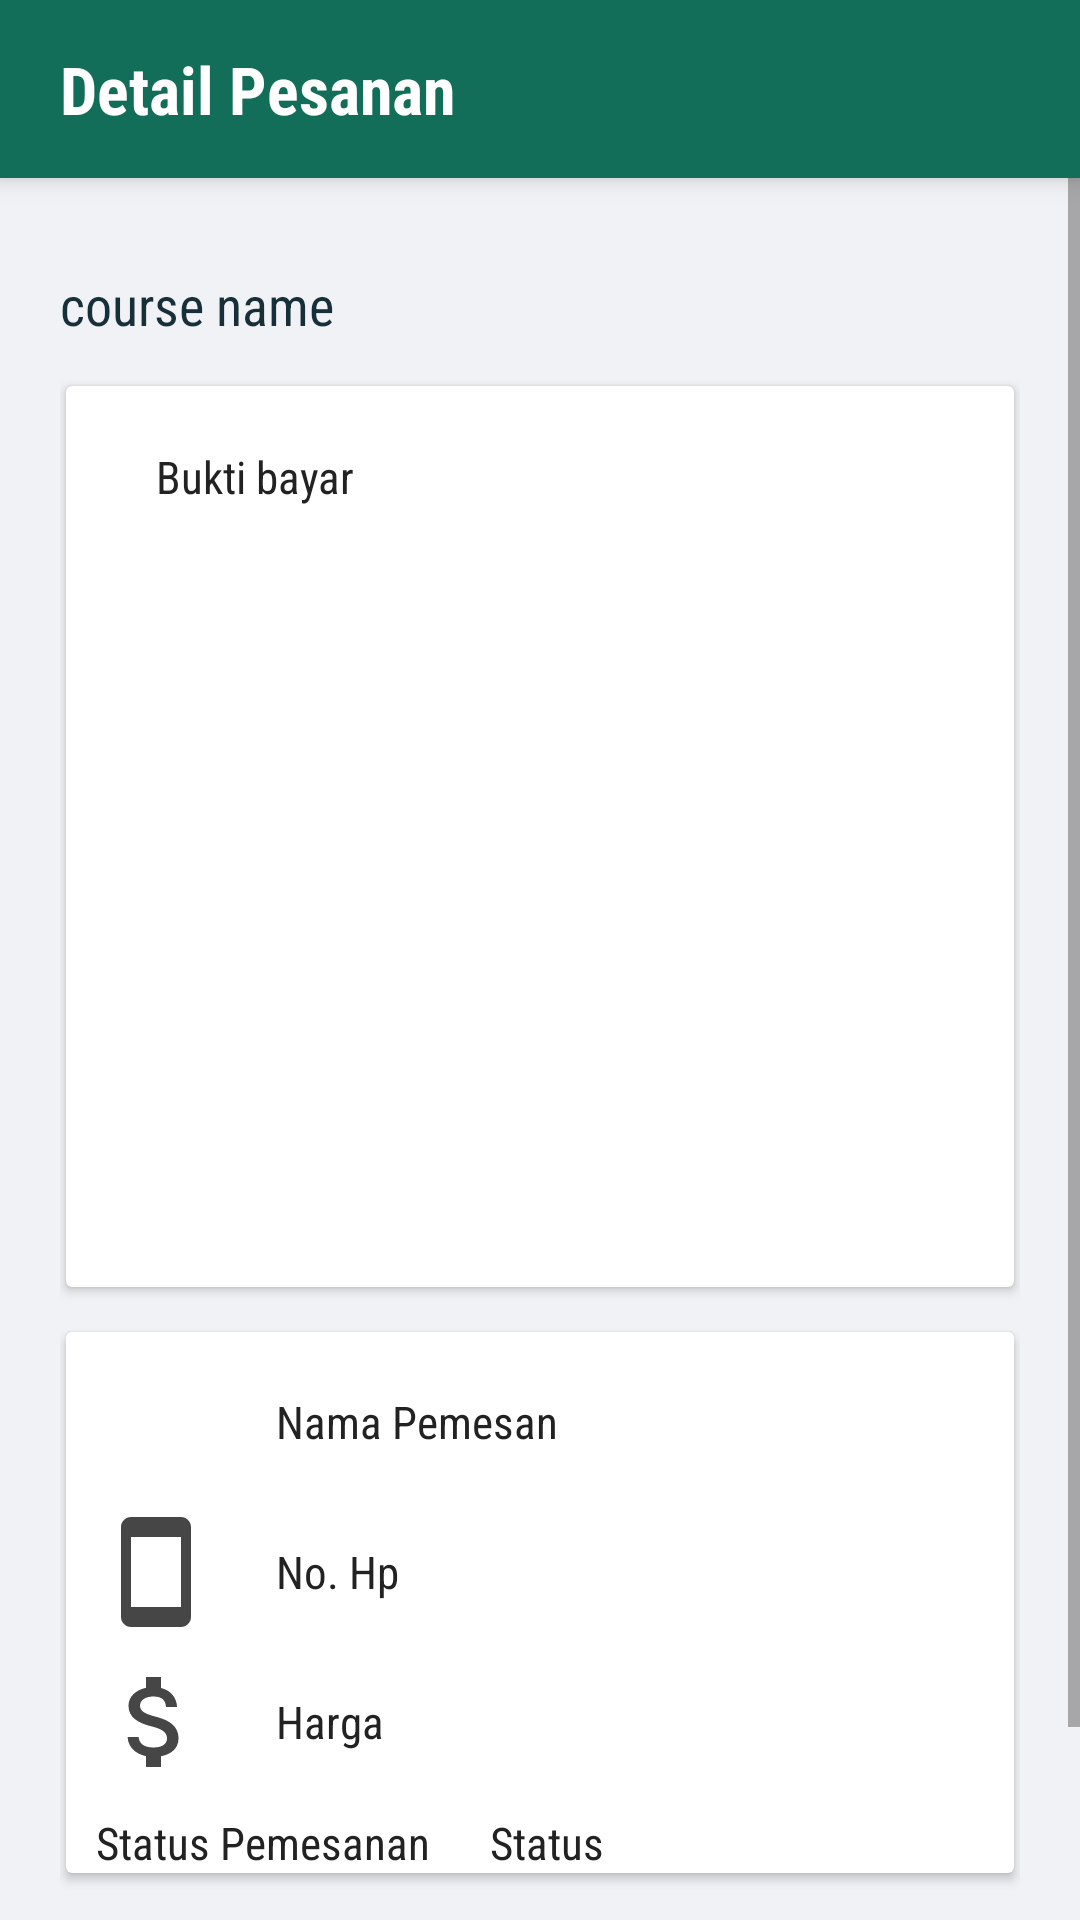

Icons on this 1080px×1920px Android screen, each with the point to tap as (x,y):
attach money: (153,1722)
smartphone: (156,1572)
